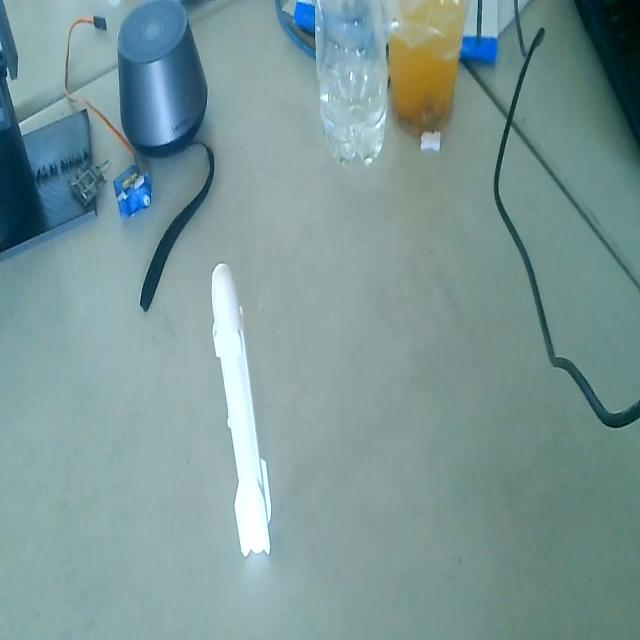Rocket: (210, 259, 276, 560)
